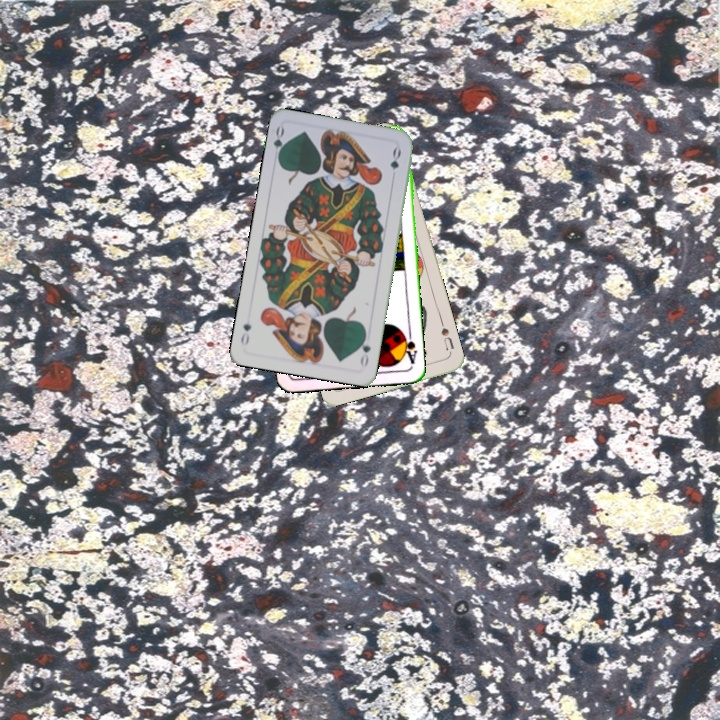GO: (269, 123, 289, 164), (356, 329, 373, 369)
SA: (398, 328, 419, 366)
SU: (437, 323, 457, 353)
